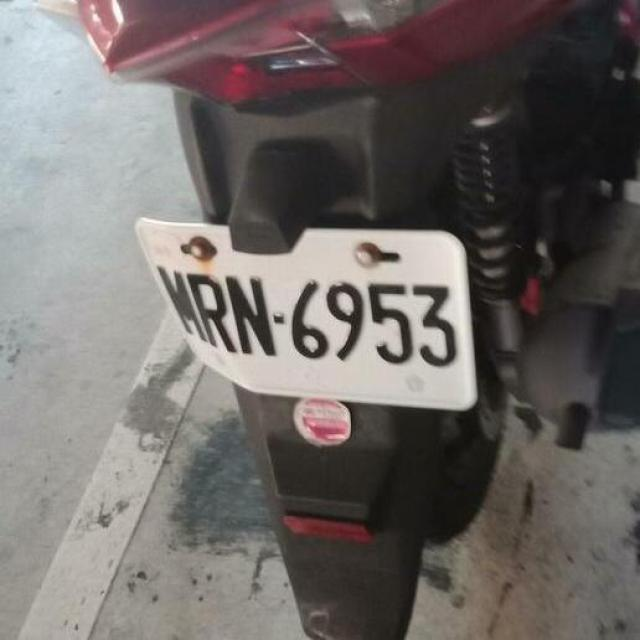W: (138, 196, 494, 430)
